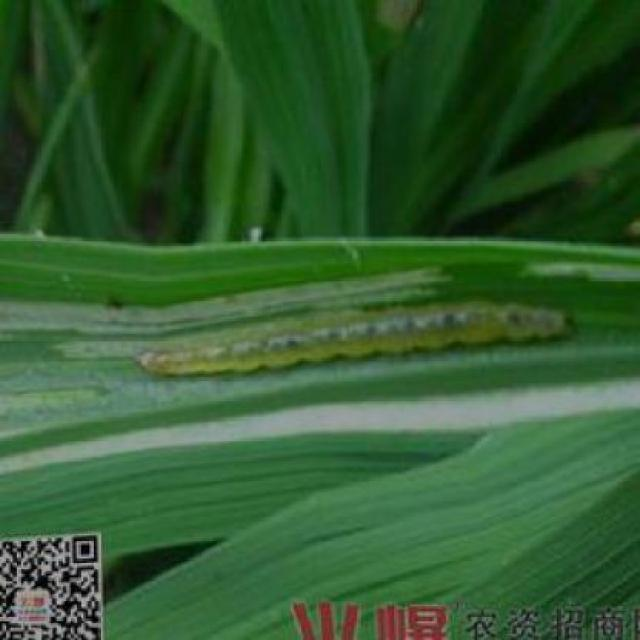leaf-folder: (132, 288, 600, 372)
